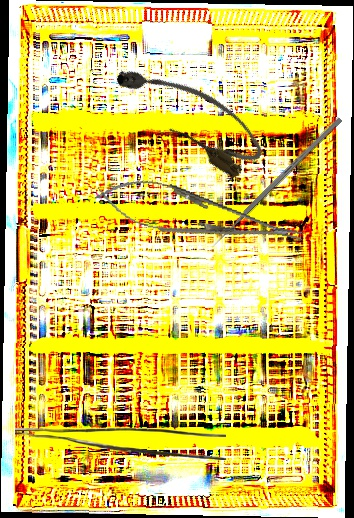Cannula: (107, 43, 273, 185)
Needle Holder: (91, 169, 309, 262)
Pusher: (209, 116, 343, 250)
Tissue Forceps: (15, 428, 226, 460)
